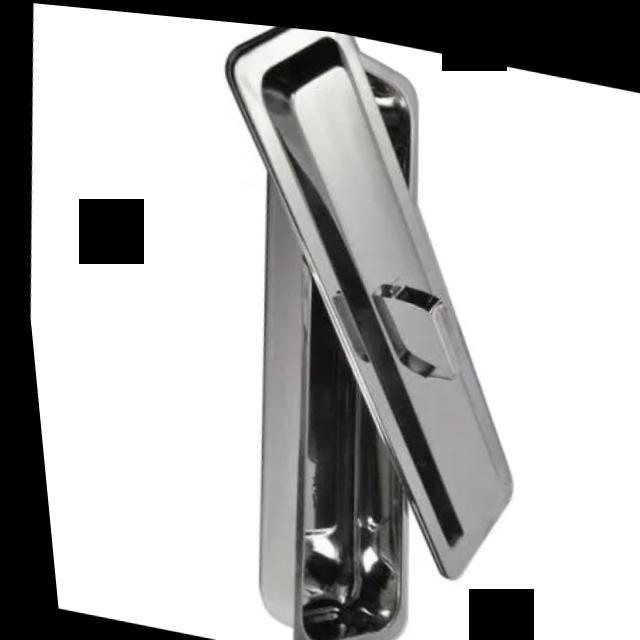Catheter Tray: (147, 11, 520, 640)
